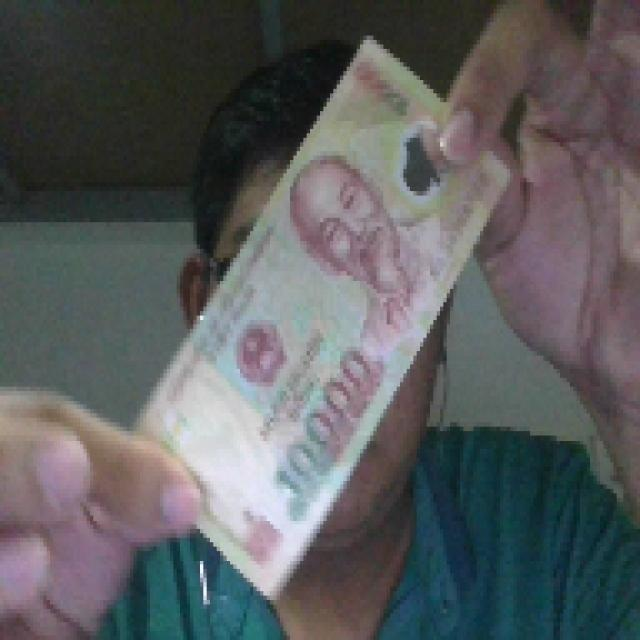10 000 VND: (126, 31, 516, 605)
